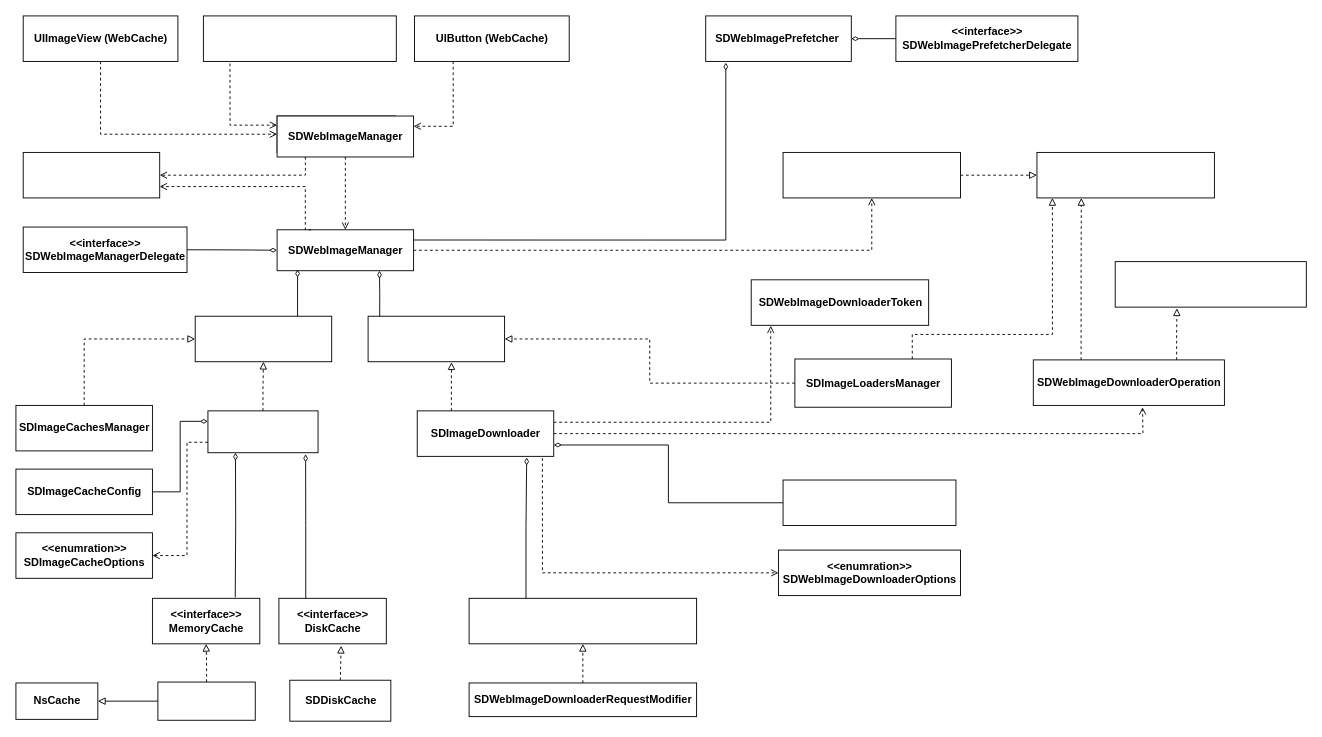
Some shapes in this 1322 by 737 pixel diagram are drawn without their labels. The centre of each missing label's shape, as x and y in pixels:
<<enumeration>> SDWebImageOptions: pixel 91 175
<<interface>> SDImageCache: pixel 263 338
<<interface>> SDImageLoader: pixel 436 338
<<interface>> SDWebImageDownloaderOperation: pixel 1210 284
<<interface>> SDWebImageDownloaderRequestModifier: pixel 582 620
<<interface>> SDWebImageOpration: pixel 1125 175
SDAnimatedImageView (webCache): pixel 299 38
SDImageCache: pixel 262 431
SDMemoryCache: pixel 206 700
SDWebImageCobinedOpration: pixel 871 175
SDWebImageDownloaderConfig: pixel 869 502
